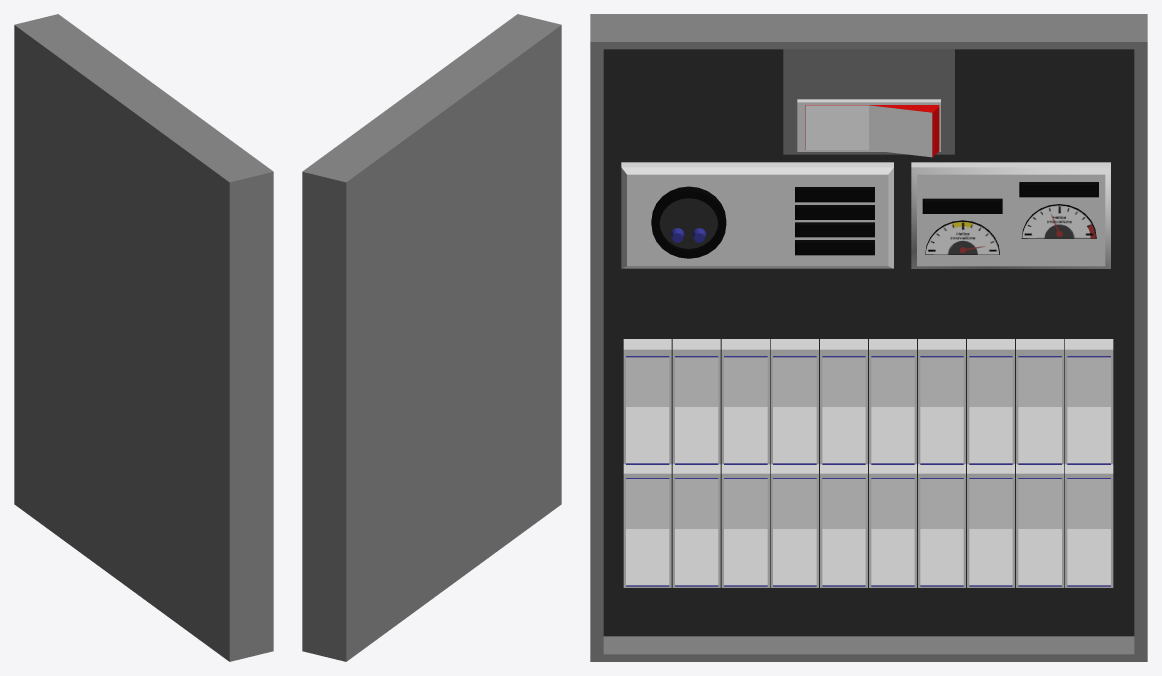
Rendered from Electrical Box with switches.fbx.
The picture shows the model from 3 angles, left to right: view 1: azimuth 30°, elevation 25°; view 2: azimuth 150°, elevation 25°; view 3: azimuth 270°, elevation 25°; orthographic projection. The views are drawn at different scales.
Visible parts, largest first — view 1: Fuse Box; view 2: Fuse Box; view 3: Fuse Box, Breaker Switch, Breaker Switch Base, Breaker Switch.001, Breaker Switch Base.001.
Boxes of the visible parts, x1,y1,x2,y2 form: Fuse Box: [14, 14, 273, 661]; Fuse Box: [302, 14, 561, 661]; Fuse Box: [590, 14, 1147, 661]; Breaker Switch: [626, 356, 1110, 586]; Breaker Switch Base: [623, 339, 1113, 587]; Breaker Switch.001: [805, 105, 939, 157]; Breaker Switch Base.001: [797, 99, 940, 151].
Size of the model in its own units: 19.27 by 200 by 163.
